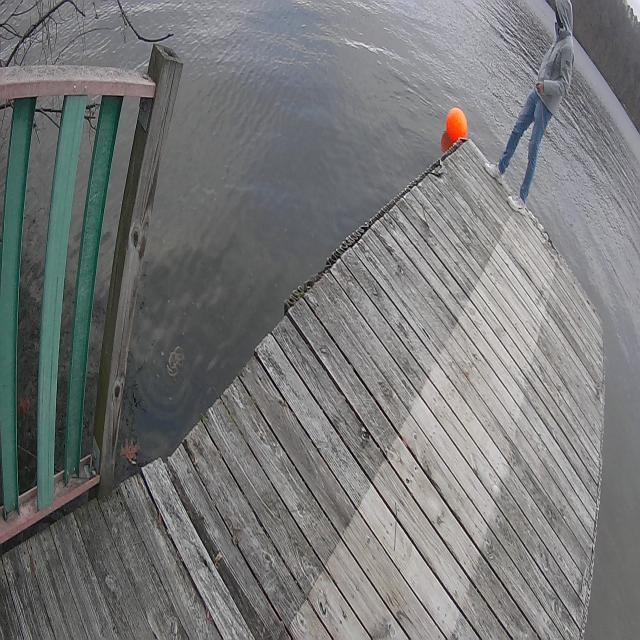Buoy: (441, 98, 474, 150)
